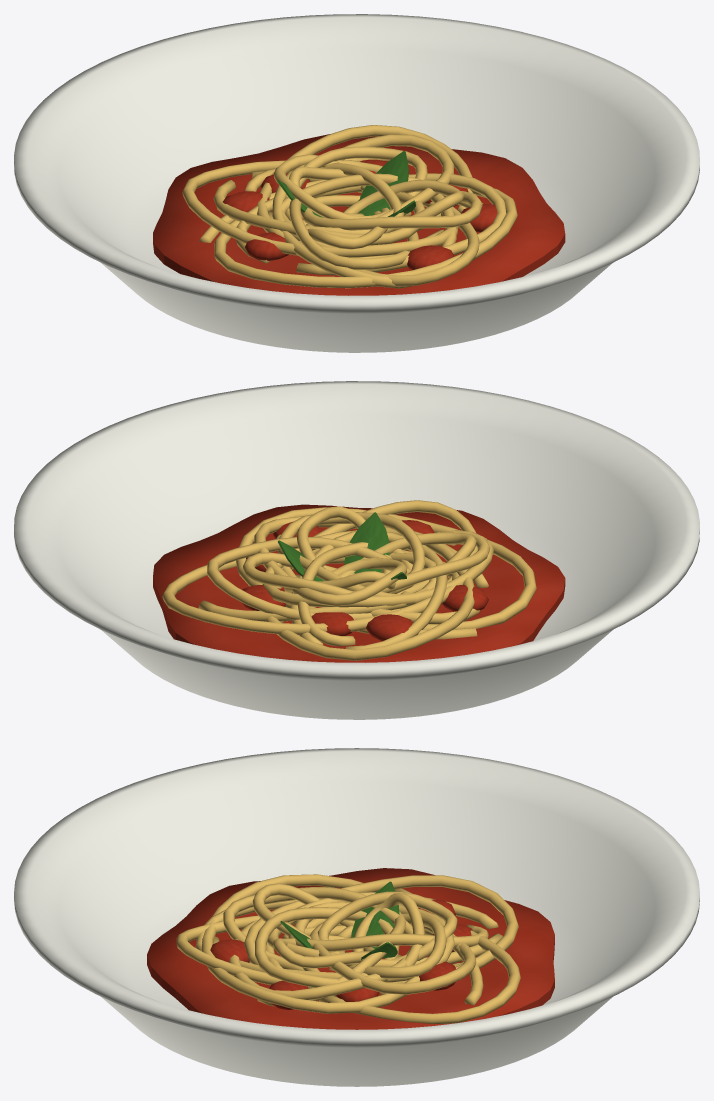
File: plate-of-pasta.glb
3 renders of one model, top to bottom at view 1: azimuth 30°, elevation 25°; view 2: azimuth 150°, elevation 25°; view 3: azimuth 270°, elevation 25°, orthographic.
Parts seen in each view (by area): view 1: Finite white ceramic serving plate, Finite tomato sauce beneath pasta, Continuous curved spaghetti strand 18, Continuous curved spaghetti strand 15, Continuous curved spaghetti strand 6, Continuous curved spaghetti strand 14, Continuous curved spaghetti strand 17, Continuous curved spaghetti strand 11, Continuous curved spaghetti strand 12, Continuous curved spaghetti strand 8, Continuous curved spaghetti strand 9, Continuous curved spaghetti strand 2 (+11 smaller); view 2: Finite white ceramic serving plate, Finite tomato sauce beneath pasta, Continuous curved spaghetti strand 18, Continuous curved spaghetti strand 15, Continuous curved spaghetti strand 17, Continuous curved spaghetti strand 9, Continuous curved spaghetti strand 12, Continuous curved spaghetti strand 3, Continuous curved spaghetti strand 11, Continuous curved spaghetti strand 13, Continuous curved spaghetti strand 5, Continuous curved spaghetti strand 7 (+12 smaller); view 3: Finite white ceramic serving plate, Finite tomato sauce beneath pasta, Continuous curved spaghetti strand 18, Continuous curved spaghetti strand 15, Continuous curved spaghetti strand 17, Continuous curved spaghetti strand 6, Continuous curved spaghetti strand 9, Continuous curved spaghetti strand 3, Continuous curved spaghetti strand 8, Continuous curved spaghetti strand 7, Continuous curved spaghetti strand 16, Continuous curved spaghetti strand 11 (+10 smaller).
Part boxes in pixels (left/top/right/bottom): Finite white ceramic serving plate: left=14, top=14, right=699, bottom=352; Finite tomato sauce beneath pasta: left=153, top=134, right=565, bottom=295; Continuous curved spaghetti strand 18: left=199, top=174, right=517, bottom=288; Continuous curved spaghetti strand 15: left=182, top=160, right=458, bottom=257; Continuous curved spaghetti strand 6: left=300, top=191, right=482, bottom=230; Continuous curved spaghetti strand 14: left=236, top=173, right=506, bottom=275; Continuous curved spaghetti strand 17: left=257, top=125, right=472, bottom=258; Continuous curved spaghetti strand 11: left=213, top=171, right=424, bottom=245; Continuous curved spaghetti strand 12: left=272, top=160, right=457, bottom=288; Continuous curved spaghetti strand 8: left=289, top=190, right=418, bottom=269; Continuous curved spaghetti strand 9: left=268, top=134, right=454, bottom=218; Continuous curved spaghetti strand 2: left=343, top=179, right=463, bottom=230; Finite white ceramic serving plate: left=14, top=381, right=699, bottom=719; Finite tomato sauce beneath pasta: left=153, top=504, right=565, bottom=662; Continuous curved spaghetti strand 18: left=236, top=507, right=536, bottom=639; Continuous curved spaghetti strand 15: left=259, top=527, right=474, bottom=660; Continuous curved spaghetti strand 17: left=162, top=550, right=459, bottom=635; Continuous curved spaghetti strand 9: left=207, top=537, right=411, bottom=619; Continuous curved spaghetti strand 12: left=262, top=530, right=493, bottom=607; Continuous curved spaghetti strand 3: left=292, top=557, right=407, bottom=606; Continuous curved spaghetti strand 11: left=289, top=531, right=447, bottom=649; Continuous curved spaghetti strand 13: left=198, top=552, right=436, bottom=621; Continuous curved spaghetti strand 5: left=243, top=552, right=409, bottom=595; Continuous curved spaghetti strand 7: left=298, top=542, right=412, bottom=646; Finite white ceramic serving plate: left=14, top=748, right=699, bottom=1086; Finite tomato sauce beneath pasta: left=147, top=868, right=554, bottom=1029; Continuous curved spaghetti strand 18: left=201, top=874, right=419, bottom=1013; Continuous curved spaghetti strand 15: left=244, top=875, right=518, bottom=994; Continuous curved spaghetti strand 17: left=266, top=904, right=520, bottom=1023; Continuous curved spaghetti strand 6: left=255, top=907, right=401, bottom=987; Continuous curved spaghetti strand 9: left=310, top=922, right=476, bottom=994; Continuous curved spaghetti strand 3: left=317, top=891, right=457, bottom=970; Continuous curved spaghetti strand 8: left=223, top=887, right=412, bottom=970; Continuous curved spaghetti strand 7: left=288, top=924, right=488, bottom=951; Continuous curved spaghetti strand 16: left=176, top=915, right=463, bottom=988; Continuous curved spaghetti strand 11: left=267, top=892, right=502, bottom=966.
Size of the model in its own units: 0.26 by 0.043 by 0.26.
Materials: 4 (4 with a texture image).
